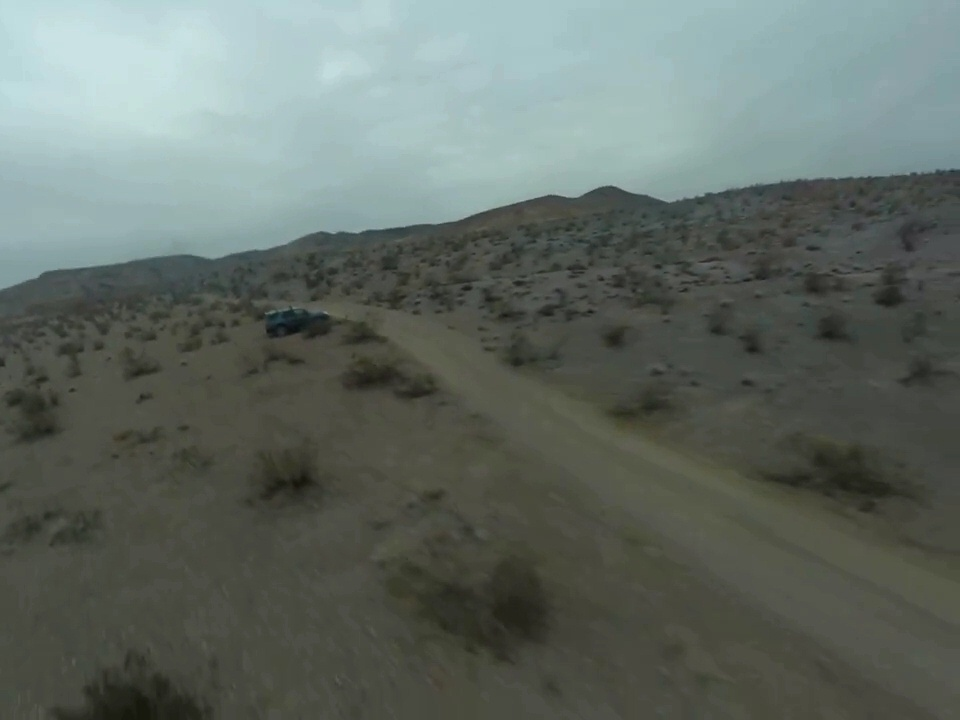araba: (261, 306, 333, 339)
